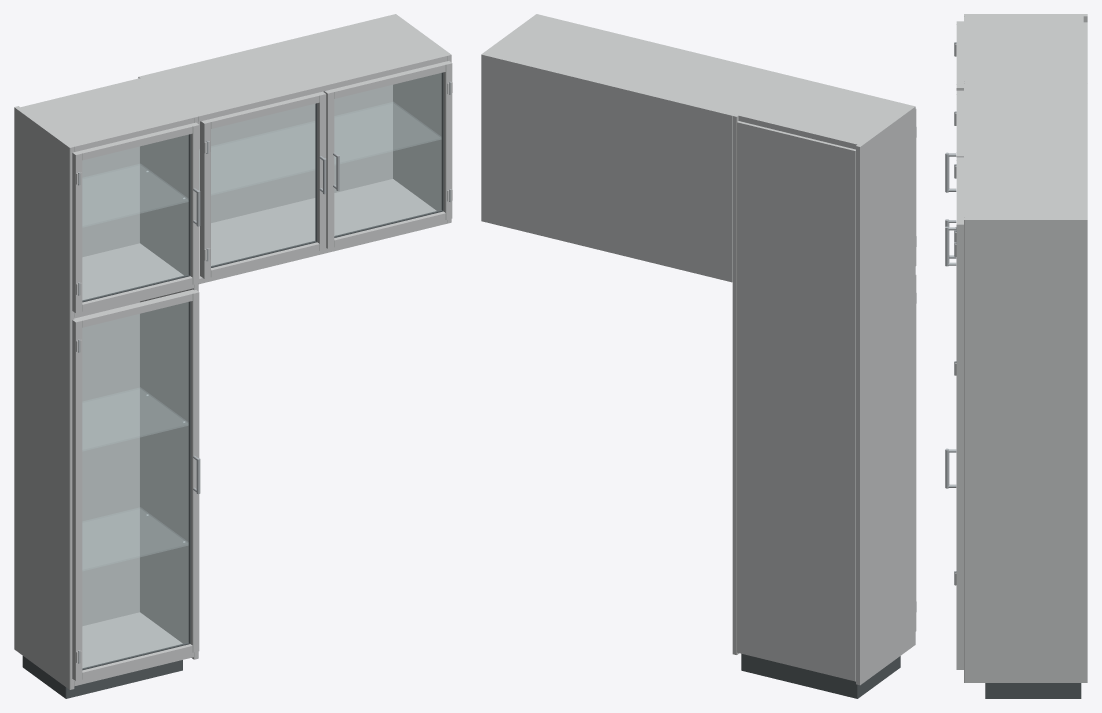
File: white-glass-front-pantry-cabinet.glb
3 renders of one model, left to right at view 1: azimuth 30°, elevation 25°; view 2: azimuth 150°, elevation 25°; view 3: azimuth 270°, elevation 25°, orthographic. The views are drawn at different scales.
Parts seen in each view (by area): view 1: Tall display door clear glazing, Tower left gable, Bridge top and bottom, Tower back panel, Tower right gable, Bridge back, Tower structural shelf, Upper tower door clear glazing, Overhead right door clear glazing, Overhead left door clear glazing, Tower glass shelves, Tall display door powder coated frame (+10 smaller); view 2: Tower back panel, Bridge back, Tower left gable, Bridge top and bottom, Tower structural shelf, Tower right gable, Recessed toe kick, Bridge right gable, Tall display door powder coated frame; view 3: Tower right gable, Bridge right gable, Bridge top and bottom, Tower structural shelf, Tall display door powder coated frame, Overhead right door powder coated frame, Recessed toe kick, Bridge back, Upper tower door powder coated frame, Overhead left door powder coated frame, Tower left gable, Tower back panel.
Boxes of the visible parts, x1,y1,x2,y2 form: Tall display door clear glazing: (82,302,188,668); Tower left gable: (14,106,74,689); Bridge top and bottom: (145,16,446,284); Tower back panel: (74,146,139,625); Tower right gable: (138,75,198,659); Bridge back: (143,14,396,222); Tower structural shelf: (21,78,193,686); Upper tower door clear glazing: (82,135,188,300); Overhead right door clear glazing: (334,73,441,236); Overhead left door clear glazing: (211,104,315,266); Tower glass shelves: (82,164,188,570); Tall display door powder coated frame: (72,289,199,680); Tower back panel: (737,121,855,681); Bridge back: (481,53,733,282); Tower left gable: (856,105,915,685); Bridge top and bottom: (488,15,787,114); Tower structural shelf: (738,76,910,149); Tower right gable: (732,75,791,654); Recessed toe kick: (741,653,900,698); Bridge right gable: (481,14,540,221); Tall display door powder coated frame: (915,275,916,631); Tower right gable: (964,81,1087,682); Bridge right gable: (964,217,1087,405); Bridge top and bottom: (964,83,1083,217); Tower structural shelf: (964,16,1083,80); Tall display door powder coated frame: (956,396,963,669); Overhead right door powder coated frame: (956,157,963,396); Recessed toe kick: (985,683,1081,698); Bridge back: (1083,83,1087,405); Upper tower door powder coated frame: (956,21,963,90); Overhead left door powder coated frame: (956,90,963,157); Tower left gable: (964,14,1087,22); Tower back panel: (1083,22,1087,80).
Bounding box in the file's own units: 1.5 × 2.1 × 0.438.
